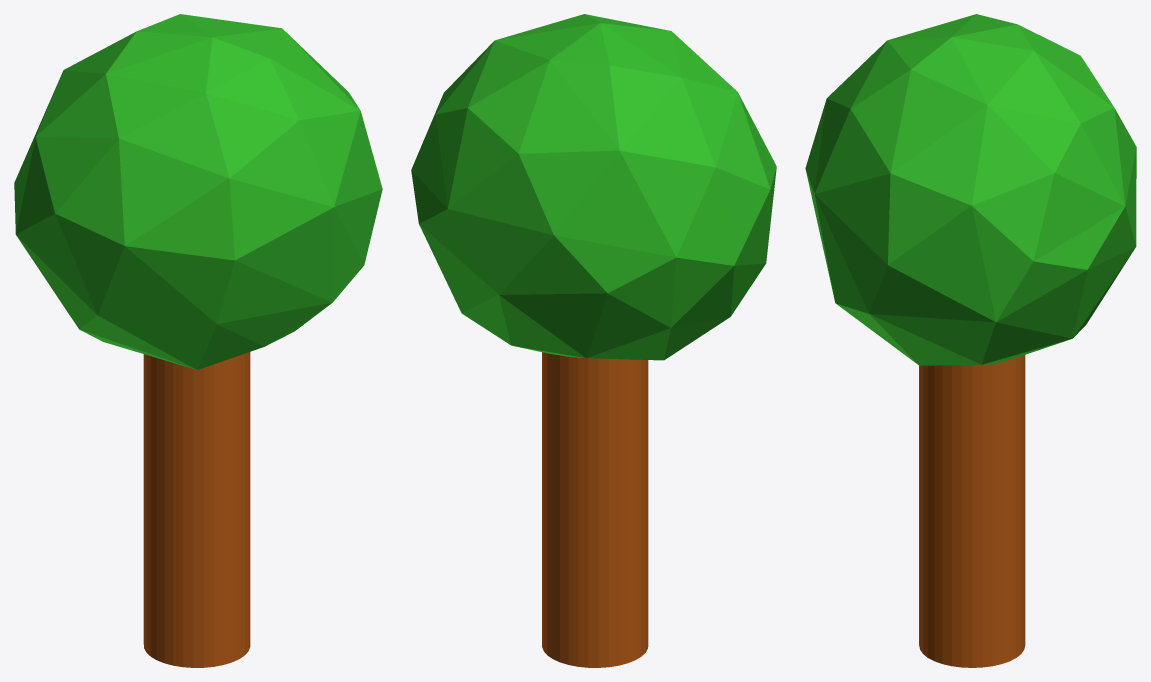
Rendered from Tree.fbx.
The picture shows the model from 3 angles, left to right: view 1: azimuth 30°, elevation 25°; view 2: azimuth 150°, elevation 25°; view 3: azimuth 270°, elevation 25°; orthographic projection.
Parts seen in each view (by area): view 1: Sphere, Cylinder; view 2: Sphere, Cylinder; view 3: Sphere, Cylinder.
Boxes of the visible parts, <box> form: Sphere: <box>14,14,382,369</box>; Cylinder: <box>143,352,250,667</box>; Sphere: <box>411,14,776,360</box>; Cylinder: <box>542,352,648,667</box>; Sphere: <box>805,14,1136,365</box>; Cylinder: <box>919,355,1025,667</box>.
Size of the model in its own units: 686 by 1271 by 624.
